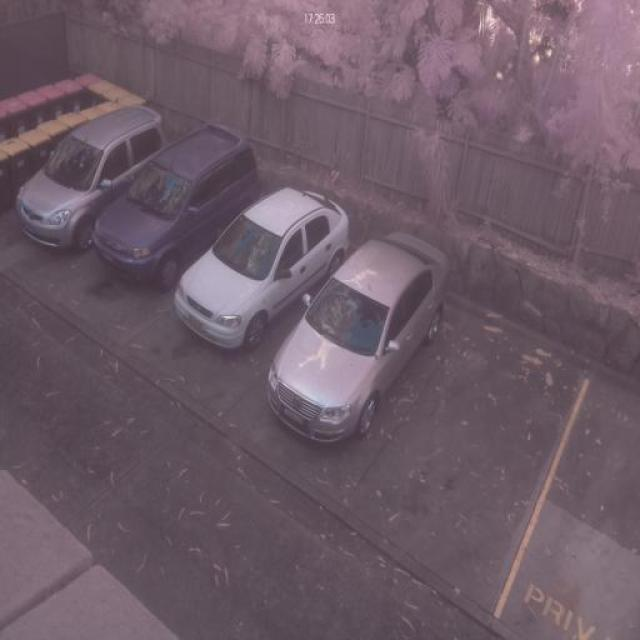Legalparking: (4, 83, 522, 456)
